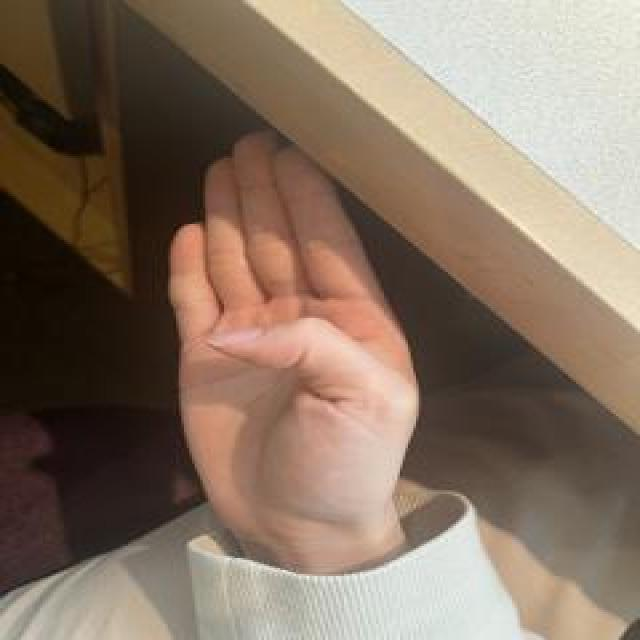B: (156, 121, 431, 565)
